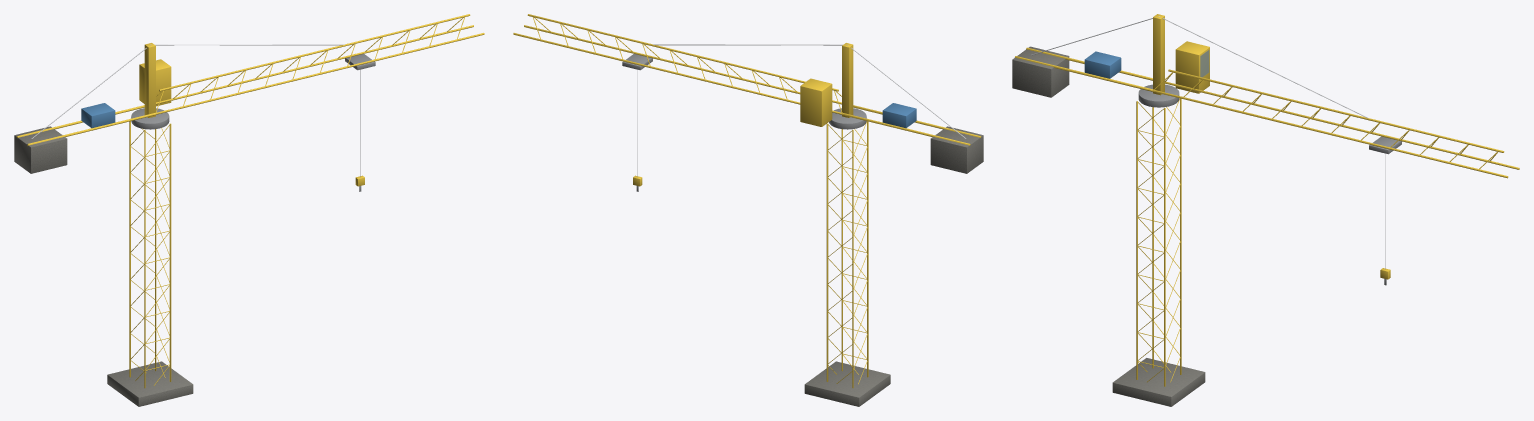
File: EQP-ELV-003_lod1.glb
The picture shows the model from 3 angles, left to right: view 1: azimuth 30°, elevation 25°; view 2: azimuth 150°, elevation 25°; view 3: azimuth 330°, elevation 25°; orthographic projection. The views are drawn at different scales.
Visible parts, largest first — view 1: EQP-ELV-003_base, EQP-ELV-003_contrapeso, EQP-ELV-003, EQP-ELV-003_lanca_banzo0, EQP-ELV-003_cabine, EQP-ELV-003_torre_topo, EQP-ELV-003_lanca_banzo1, EQP-ELV-003_lanca_topo, EQP-ELV-003_torre_montante1, EQP-ELV-003_guincho, EQP-ELV-003_giro, EQP-ELV-003_torre_montante0 (+2 smaller); view 2: EQP-ELV-003_base, EQP-ELV-003_contrapeso, EQP-ELV-003_cabine, EQP-ELV-003, EQP-ELV-003_torre_topo, EQP-ELV-003_lanca_banzo1, EQP-ELV-003_lanca_topo, EQP-ELV-003_torre_montante3, EQP-ELV-003_lanca_banzo0, EQP-ELV-003_guincho, EQP-ELV-003_giro, EQP-ELV-003_torre_montante2 (+2 smaller); view 3: EQP-ELV-003_base, EQP-ELV-003_contrapeso, EQP-ELV-003, EQP-ELV-003_cabine, EQP-ELV-003_lanca_banzo0, EQP-ELV-003_lanca_banzo1, EQP-ELV-003_lanca_topo, EQP-ELV-003_torre_topo, EQP-ELV-003_guincho, EQP-ELV-003_giro, EQP-ELV-003_torre_montante0, EQP-ELV-003_torre_montante1 (+2 smaller).
Boxes of the visible parts, <box> form: EQP-ELV-003_base: <box>107,361,193,406</box>; EQP-ELV-003_contrapeso: <box>14,126,67,173</box>; EQP-ELV-003: <box>130,123,170,385</box>; EQP-ELV-003_lanca_banzo0: <box>156,33,484,114</box>; EQP-ELV-003_cabine: <box>139,59,171,106</box>; EQP-ELV-003_torre_topo: <box>144,43,155,117</box>; EQP-ELV-003_lanca_banzo1: <box>156,25,473,104</box>; EQP-ELV-003_lanca_topo: <box>159,14,470,91</box>; EQP-ELV-003_torre_montante1: <box>169,124,171,381</box>; EQP-ELV-003_guincho: <box>81,103,115,128</box>; EQP-ELV-003_giro: <box>131,108,169,129</box>; EQP-ELV-003_torre_montante0: <box>144,130,145,388</box>; EQP-ELV-003_base: <box>804,361,890,406</box>; EQP-ELV-003_contrapeso: <box>930,126,983,173</box>; EQP-ELV-003_cabine: <box>800,78,832,126</box>; EQP-ELV-003: <box>828,121,867,384</box>; EQP-ELV-003_torre_topo: <box>842,43,853,117</box>; EQP-ELV-003_lanca_banzo1: <box>513,33,841,114</box>; EQP-ELV-003_lanca_topo: <box>527,14,838,91</box>; EQP-ELV-003_torre_montante3: <box>826,123,828,381</box>; EQP-ELV-003_lanca_banzo0: <box>524,25,841,104</box>; EQP-ELV-003_guincho: <box>882,103,916,128</box>; EQP-ELV-003_giro: <box>829,108,866,129</box>; EQP-ELV-003_torre_montante2: <box>852,130,853,388</box>; EQP-ELV-003_base: <box>1112,358,1205,406</box>; EQP-ELV-003_contrapeso: <box>1012,46,1069,97</box>; EQP-ELV-003: <box>1137,98,1180,382</box>; EQP-ELV-003_cabine: <box>1175,41,1209,93</box>; EQP-ELV-003_lanca_banzo0: <box>1153,89,1508,178</box>; EQP-ELV-003_lanca_banzo1: <box>1165,81,1519,169</box>; EQP-ELV-003_lanca_topo: <box>1168,69,1504,152</box>; EQP-ELV-003_torre_topo: <box>1153,14,1164,95</box>; EQP-ELV-003_guincho: <box>1084,51,1121,78</box>; EQP-ELV-003_giro: <box>1138,84,1179,107</box>; EQP-ELV-003_torre_montante0: <box>1136,101,1137,379</box>; EQP-ELV-003_torre_montante1: <box>1164,108,1165,386</box>.
Size of the model in its own units: 25 by 18.03 by 3.25.
6 materials, 1 textured.
